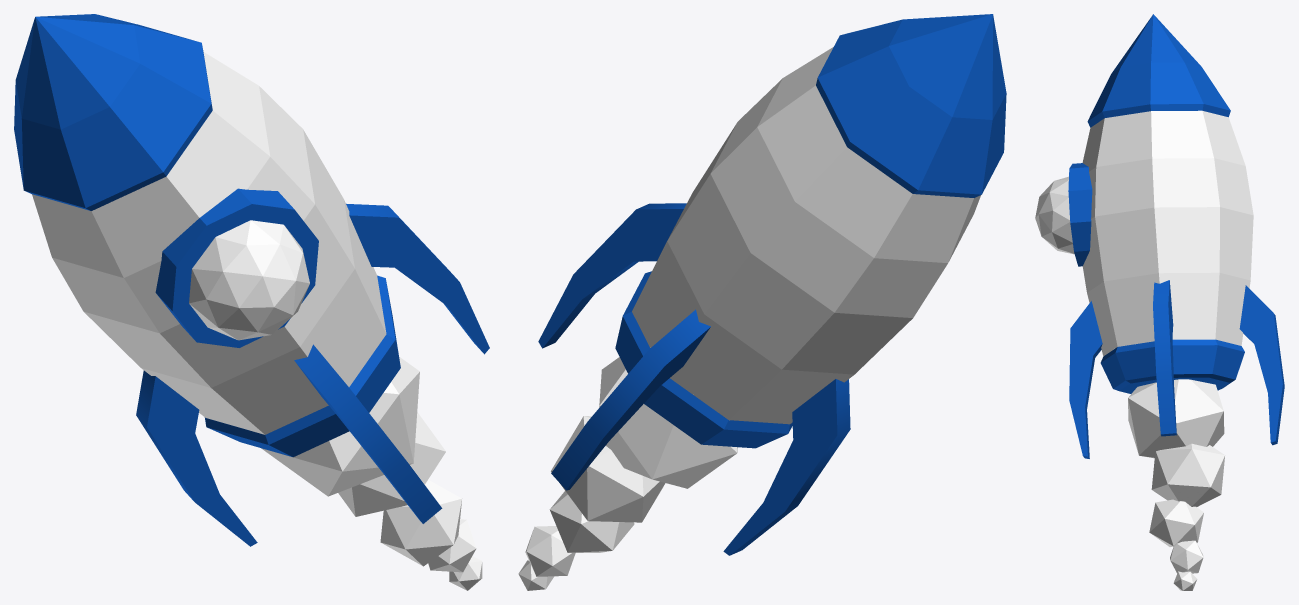
3 renders of one model, left to right at view 1: azimuth 30°, elevation 25°; view 2: azimuth 150°, elevation 25°; view 3: azimuth 270°, elevation 25°, orthographic. The views are drawn at different scales.
Parts seen in each view (by area): view 1: Rocket Ship 01_Material #27_0; view 2: Rocket Ship 01_Material #27_0; view 3: Rocket Ship 01_Material #27_0.
Part boxes in pixels (bbox=[...]): Rocket Ship 01_Material #27_0: bbox=[14, 14, 489, 590]; Rocket Ship 01_Material #27_0: bbox=[518, 14, 1006, 590]; Rocket Ship 01_Material #27_0: bbox=[1035, 14, 1284, 590].
Size of the model in its own units: 1.1 by 1.55 by 0.8012.
